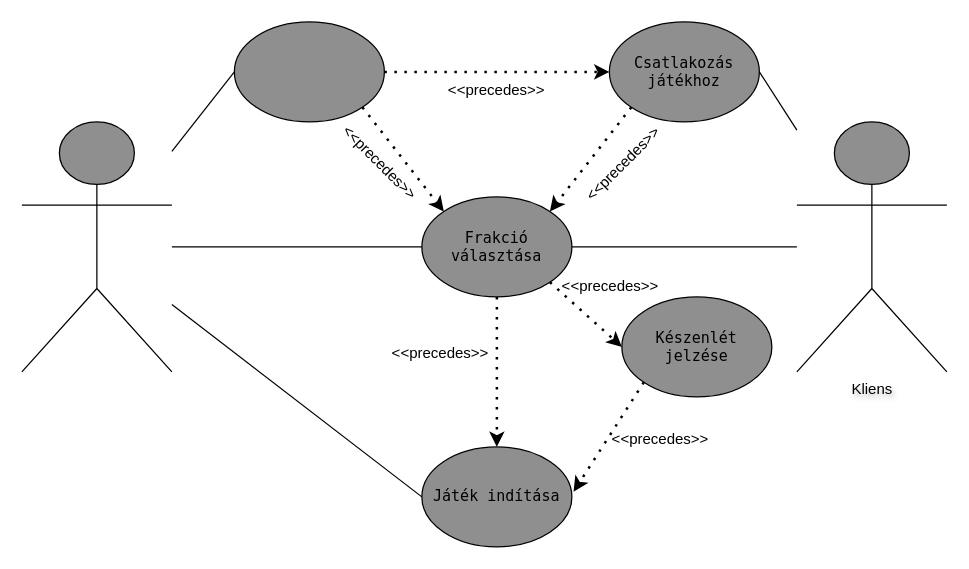
Some shapes in this 969 by 569 pixel diagram are drawn without their labels. The shapes that lost their labels are listed below. From the top down, each one's box as (x1, y1, x2, y2) in pixels, then its label:
(233, 21, 384, 122): Új játék létrehozása
(21, 121, 172, 372): Host
